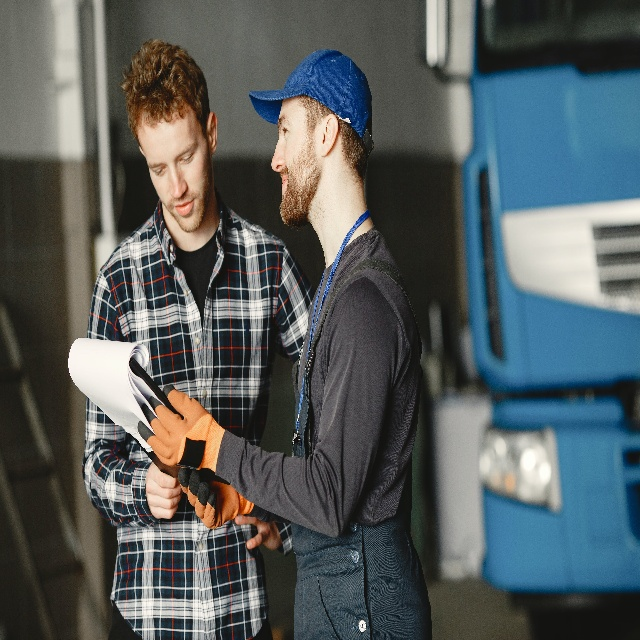Guantes: (133, 381, 228, 475), (178, 462, 249, 522)
Sin_guantes: (146, 460, 182, 518), (234, 516, 281, 551)
